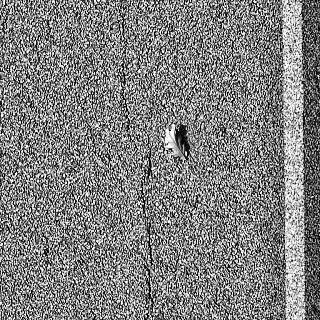alligator-crack: (117, 0, 160, 320)
